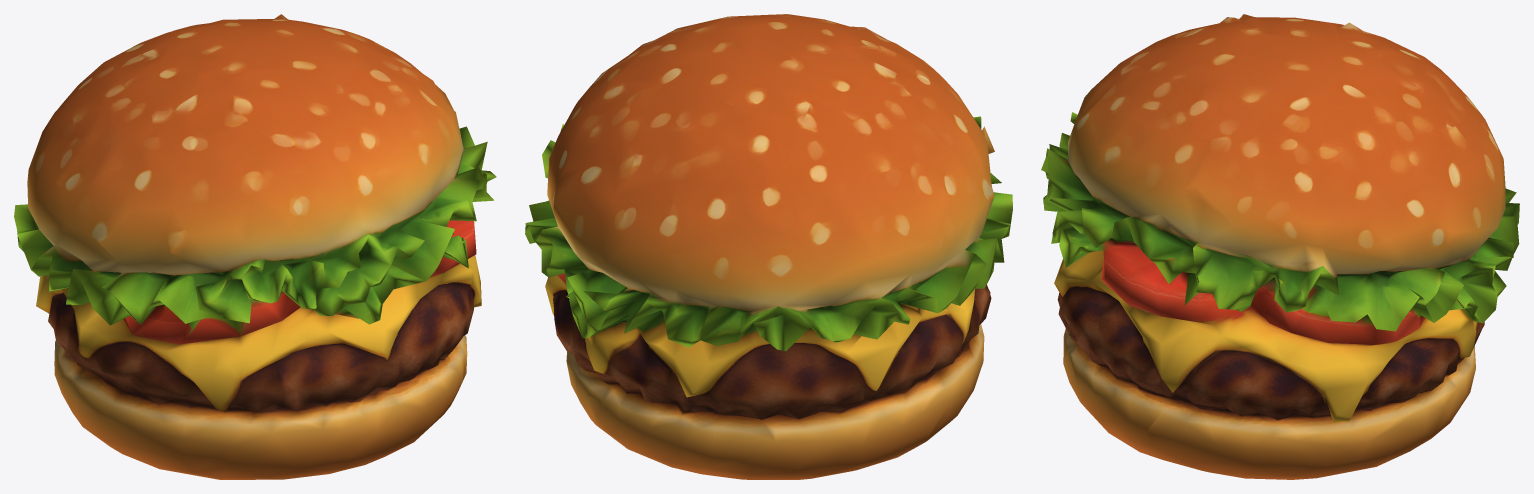
File: burger.glb
The picture shows the model from 3 angles, left to right: view 1: azimuth 30°, elevation 25°; view 2: azimuth 150°, elevation 25°; view 3: azimuth 270°, elevation 25°; orthographic projection.
Visible parts, largest first — view 1: tripo_node_94b2cf39-ce58-46f3-96ac-034762da238a; view 2: tripo_node_94b2cf39-ce58-46f3-96ac-034762da238a; view 3: tripo_node_94b2cf39-ce58-46f3-96ac-034762da238a.
Boxes of the visible parts, box(x1,y1,x2,y2) form: tripo_node_94b2cf39-ce58-46f3-96ac-034762da238a: box(14, 14, 496, 479); tripo_node_94b2cf39-ce58-46f3-96ac-034762da238a: box(525, 14, 1012, 479); tripo_node_94b2cf39-ce58-46f3-96ac-034762da238a: box(1041, 14, 1519, 479).
Size of the model in its own units: 0.9962 by 0.8578 by 0.9835.
1 material, 1 textured.
